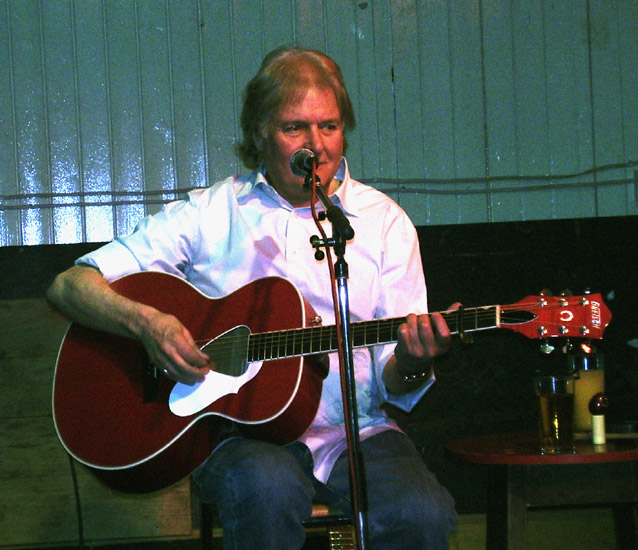guitar: (50, 271, 613, 495)
